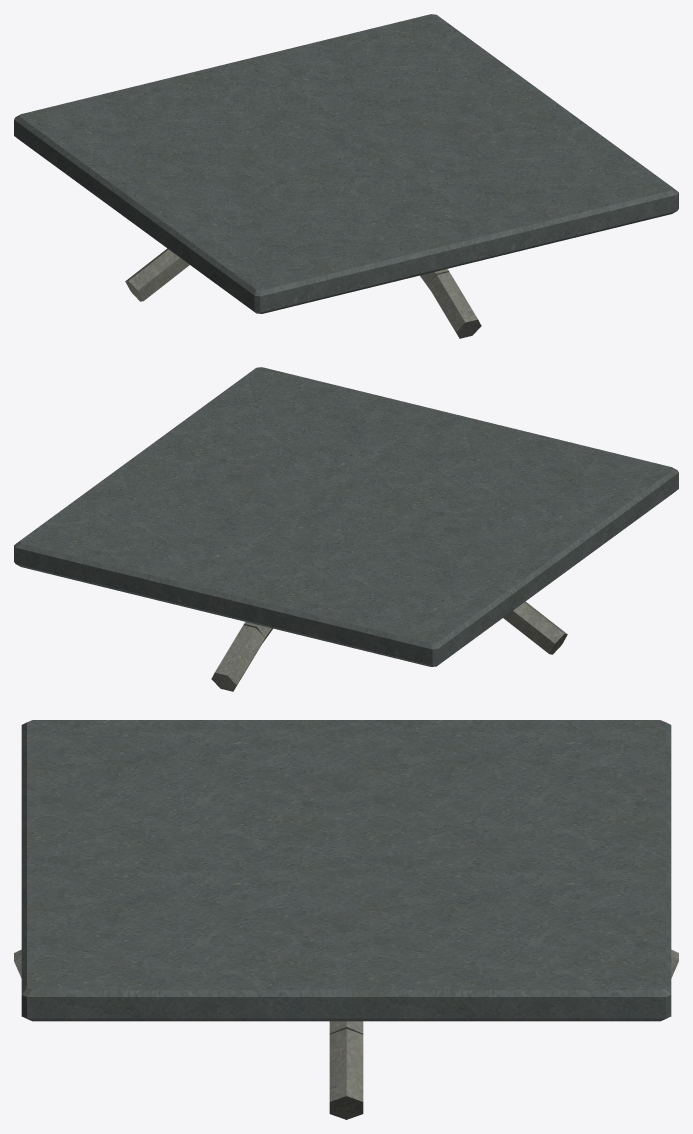
File: source.glb
3 views of the same model, one above another, from view 1: azimuth 30°, elevation 25°; view 2: azimuth 150°, elevation 25°; view 3: azimuth 270°, elevation 25° (orthographic). The views are drawn at different scales.
Visible parts, largest first — view 1: body; view 2: body; view 3: body.
Boxes of the visible parts, x1,y1,x2,y2 form: body: (14, 14, 678, 338); body: (14, 367, 678, 691); body: (14, 720, 678, 1119).
Bounding box in the file's own units: 3.08 × 0.67 × 3.07.
3 materials, 2 textured.
